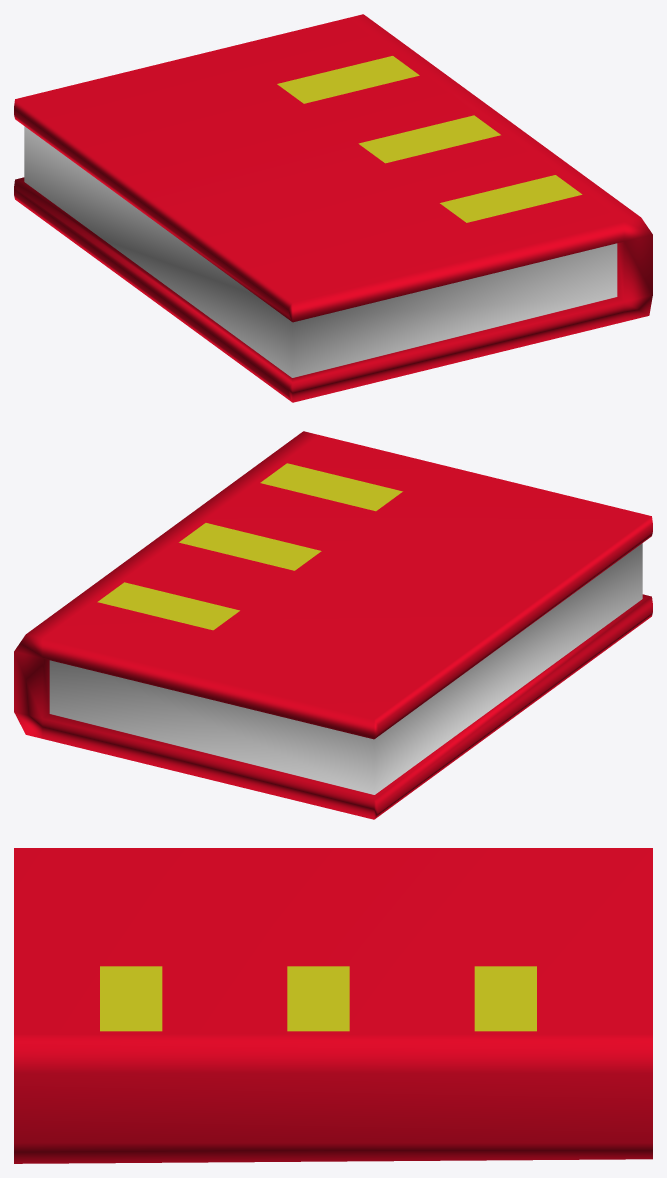
The model's file is Livro.fbx.
3 renders of one model, top to bottom at view 1: azimuth 30°, elevation 25°; view 2: azimuth 150°, elevation 25°; view 3: azimuth 270°, elevation 25°, orthographic. The views are drawn at different scales.
Parts seen in each view (by area): view 1: Livro grande com linhas douradas export; view 2: Livro grande com linhas douradas export; view 3: Livro grande com linhas douradas export.
Part boxes in pixels (x1,y1,x2,y2): Livro grande com linhas douradas export: (14,14,652,402); Livro grande com linhas douradas export: (14,431,652,819); Livro grande com linhas douradas export: (14,848,652,1163).
Bounding box in the file's own units: 15.88 × 4.22 × 21.05.
